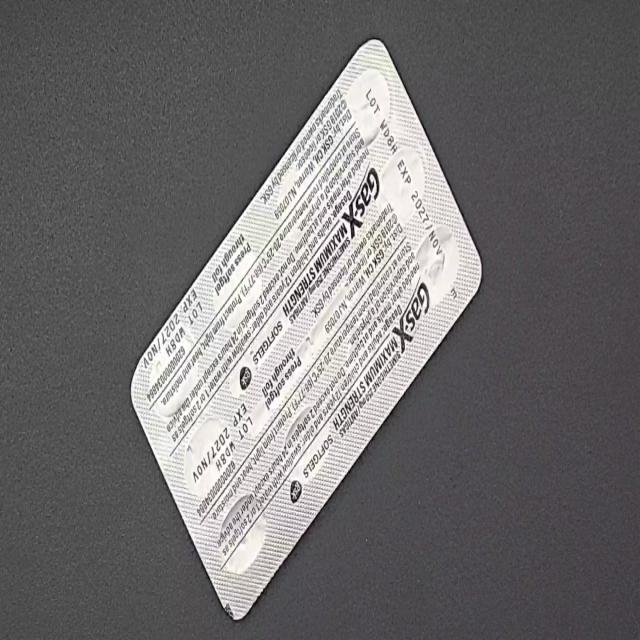no defect: (10, 10, 33, 56)
